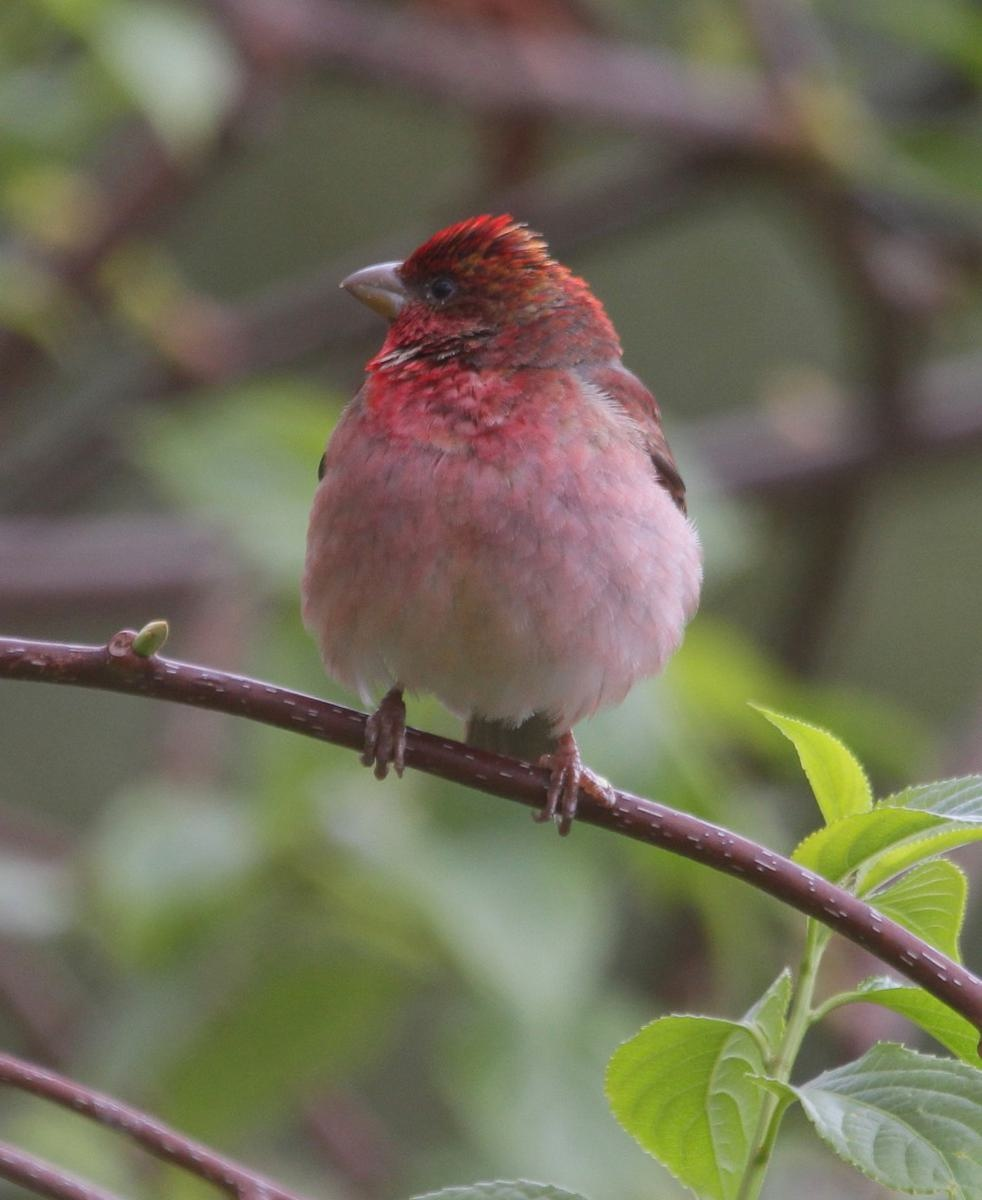rosefinch: (327, 202, 714, 818)
